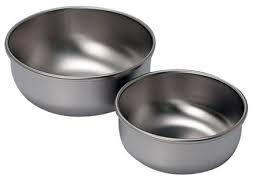Sponge Bowl: (5, 5, 153, 119), (113, 68, 247, 178)
